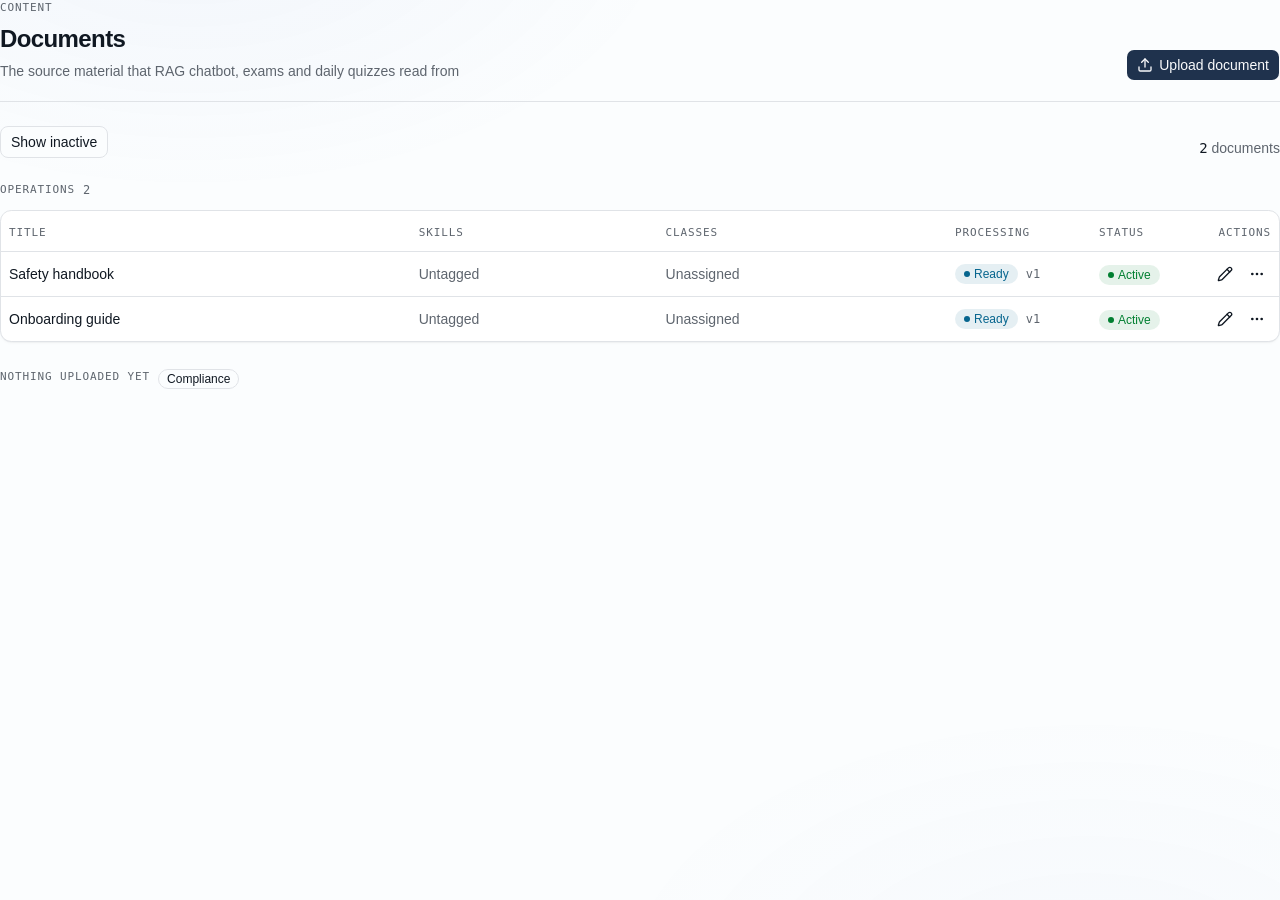
Scenario: DocumentsPage edit and delete › passes a daily quiz config block through just as verbatim
The image size is (1280, 900).
Expected: the link "Safety handbook" is shown, [9,266,114,282]
What coordinates should you click on to do the following:
click the button named "Actions for"
I would click on:
 (1257, 274)
Its box is [1243,260,1271,288].
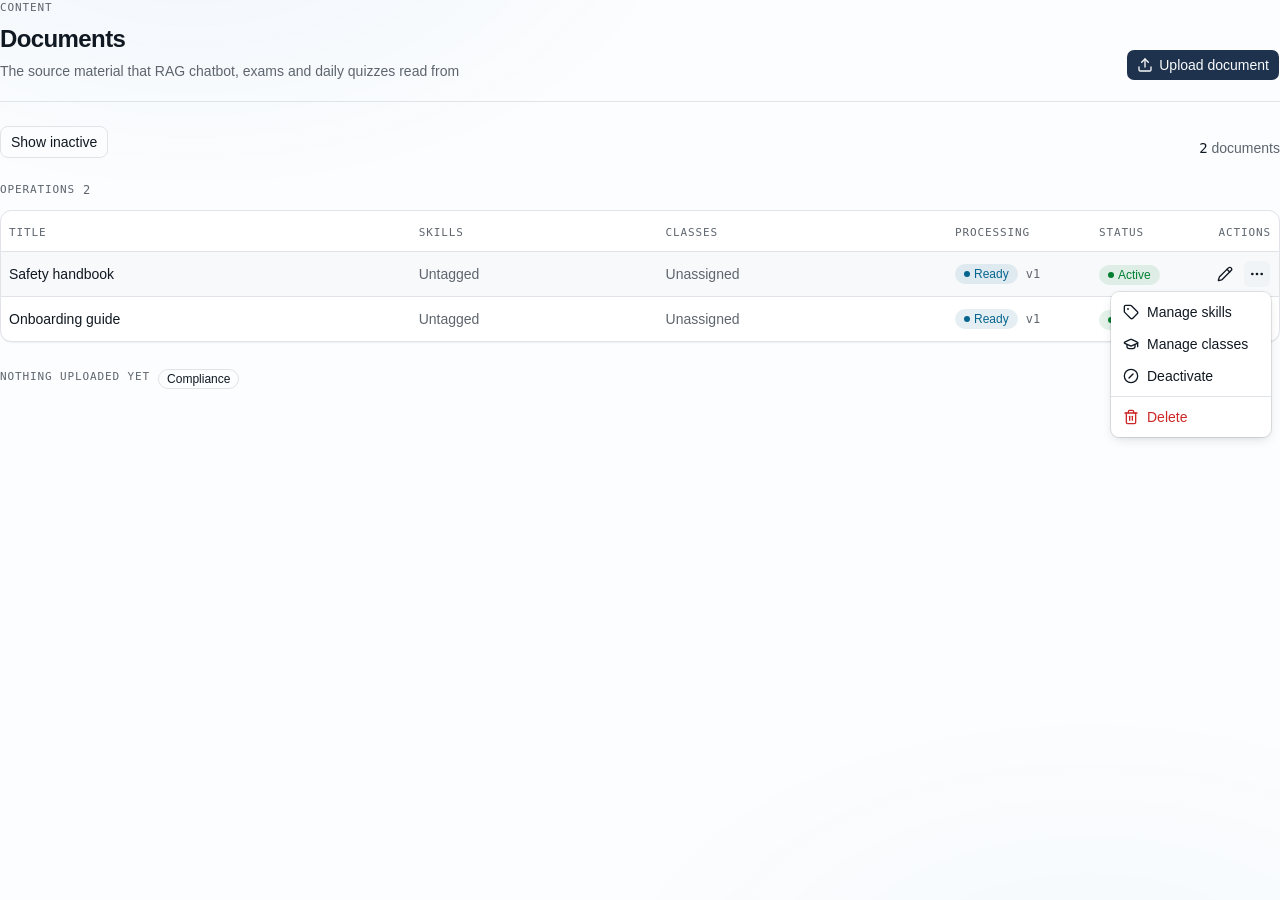
What coordinates should you click on to do the following:
click the menu item "Delete"
I would click on:
 (1155, 417)
Its box is [1123,409,1188,425].
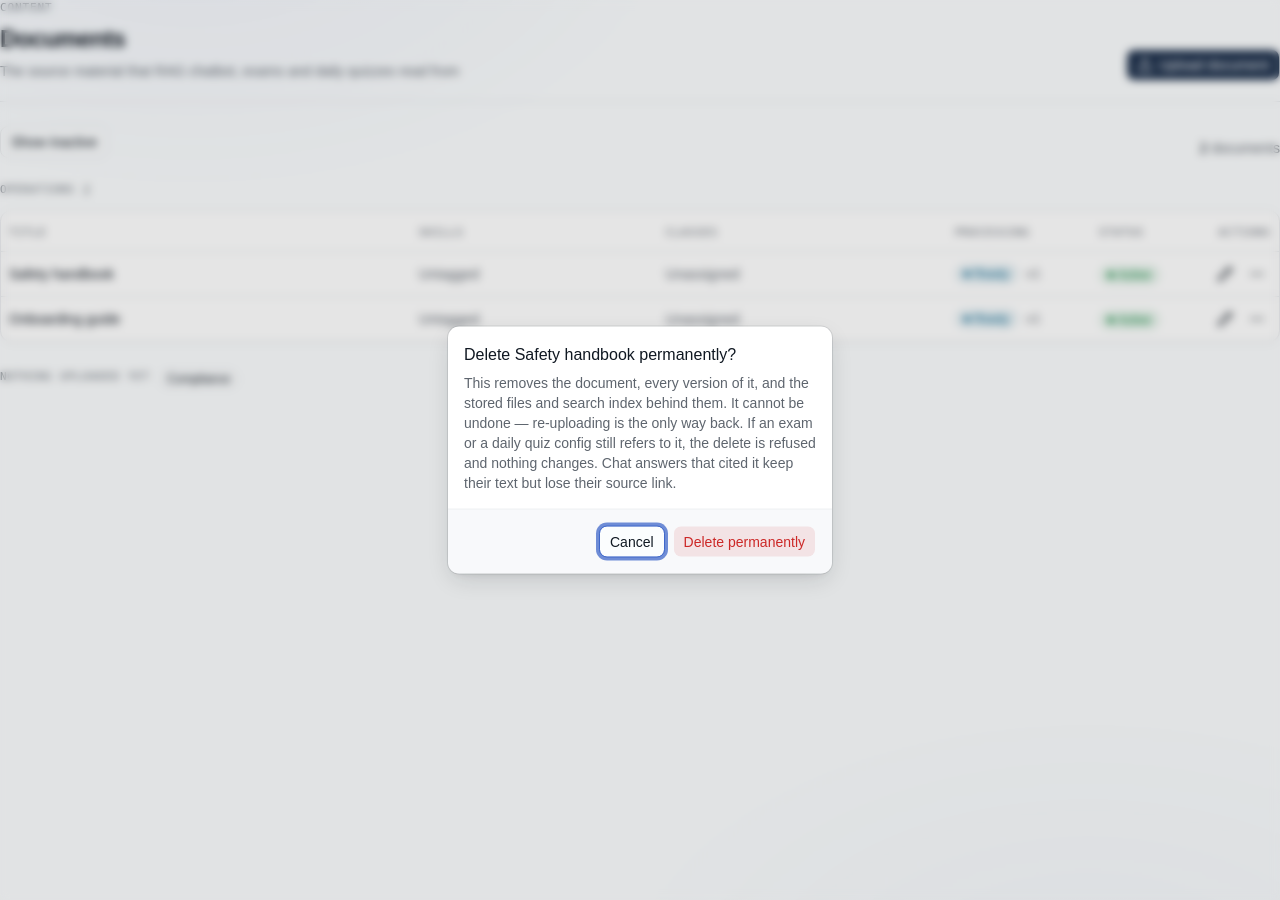
What coordinates should you click on to do the following:
click the button "Delete permanently"
I would click on:
 (744, 542)
Its box is [673,526,816,558].
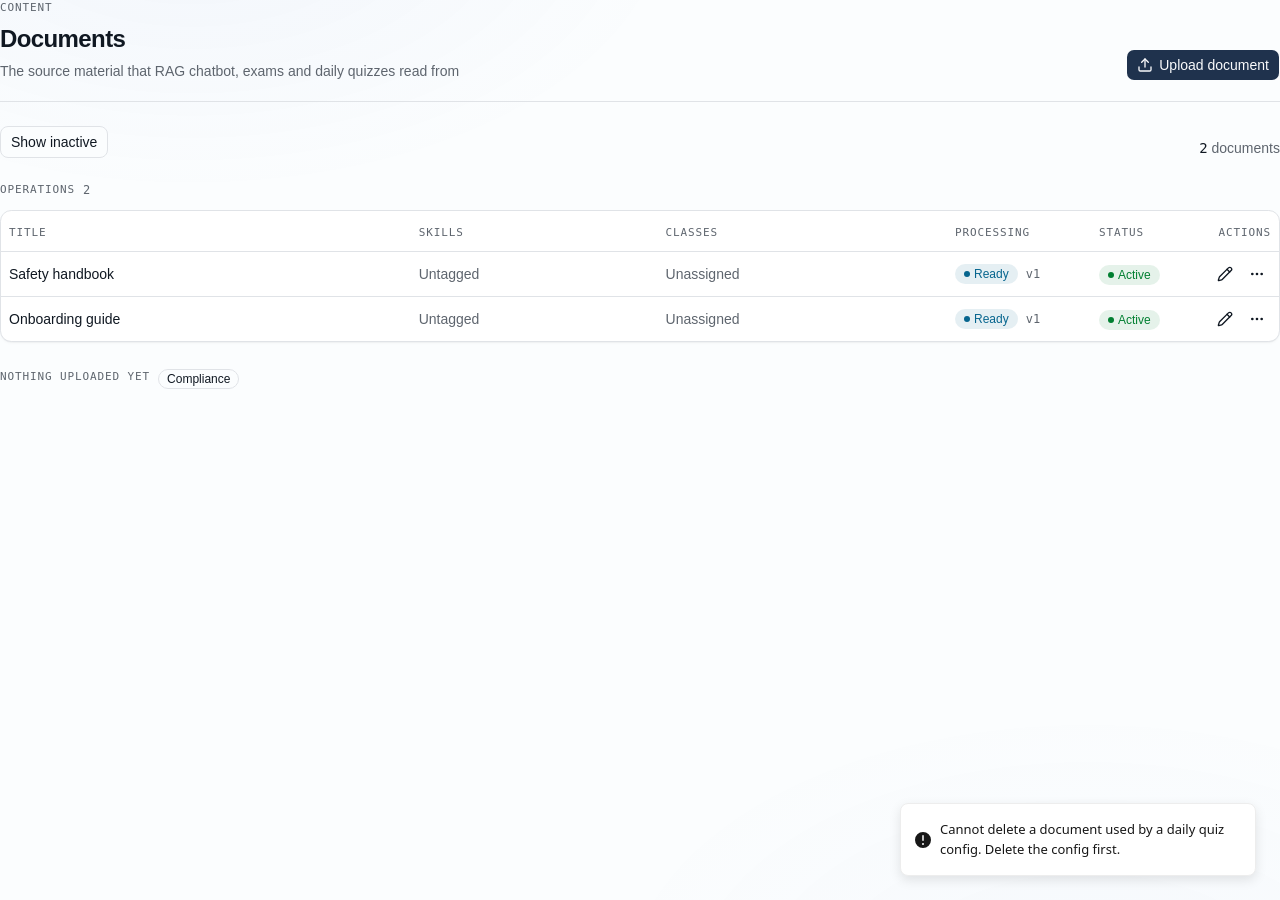
Expected: the link "Safety handbook" is shown, [9,266,114,282]
Now the text "Cannot delete a document used by a daily quiz config. Delete the config first." is shown, box [940,820,1239,859]
